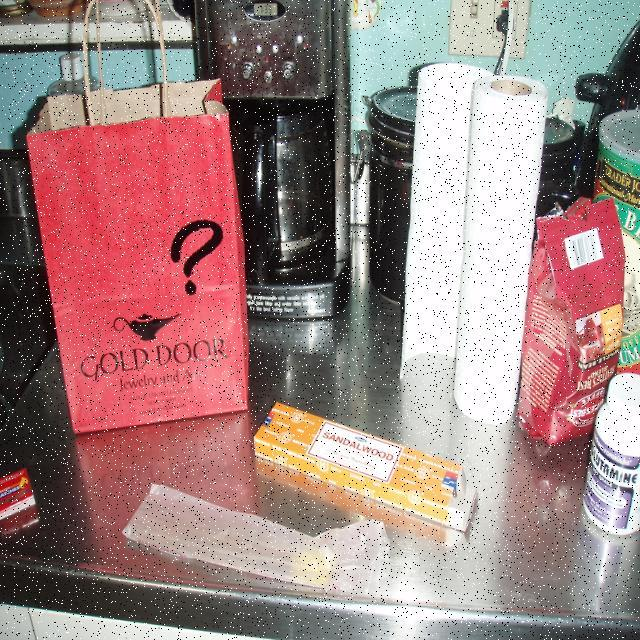Coffee-Machine: (199, 0, 377, 328)
